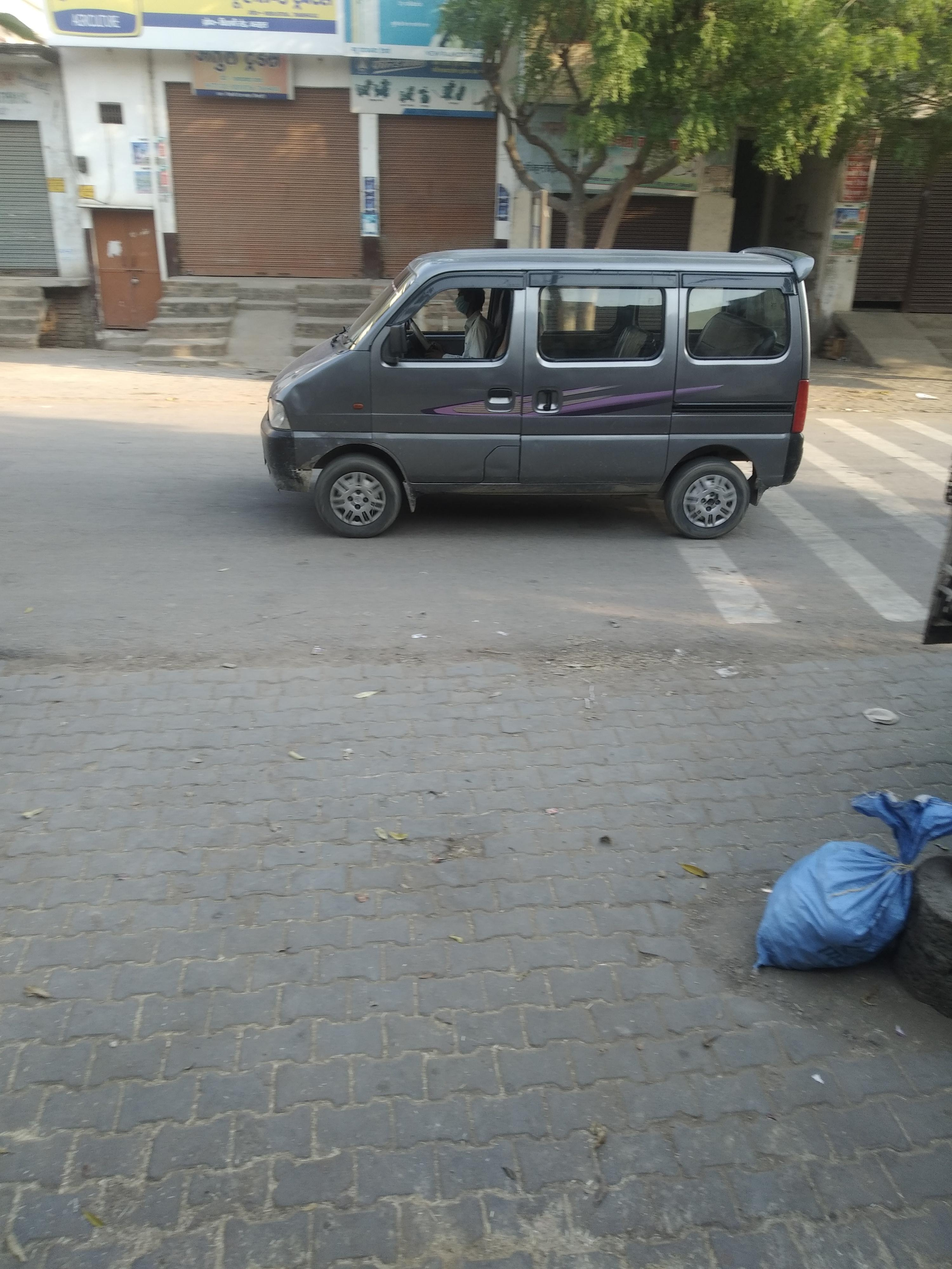non-ambulance: (233, 227, 868, 598)
